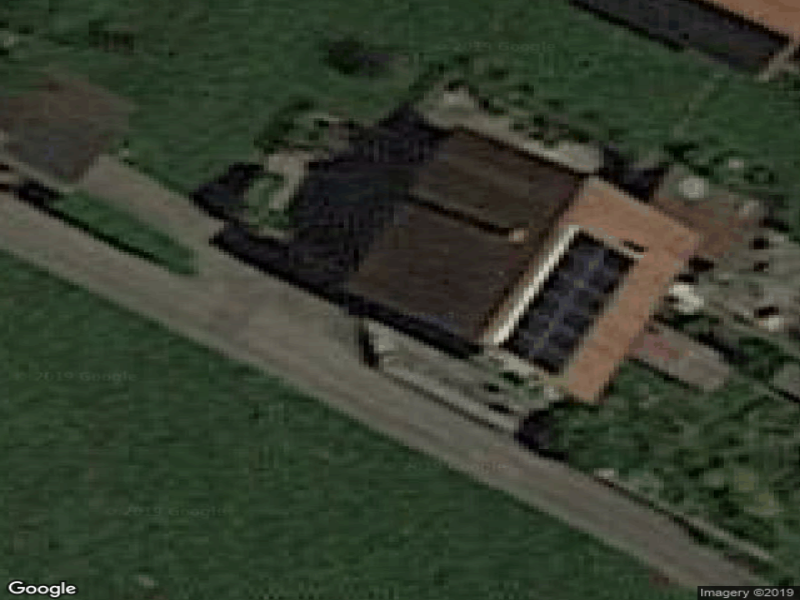pv: (503, 232, 639, 380)
